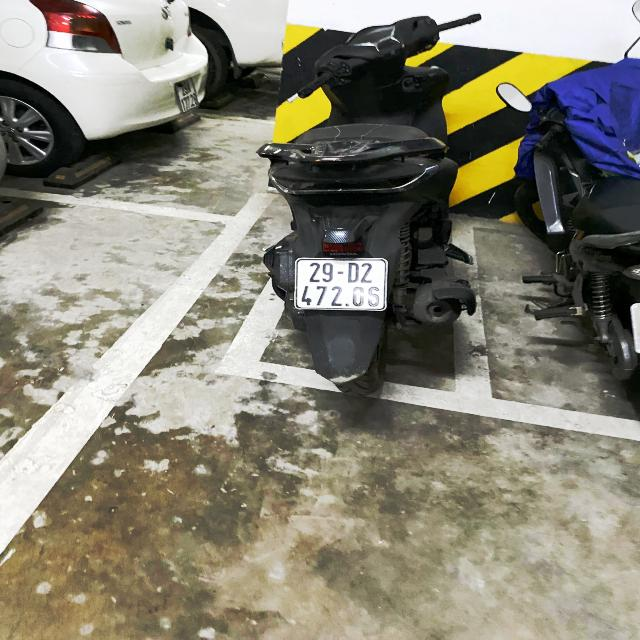license_plate: (295, 258, 389, 313)
